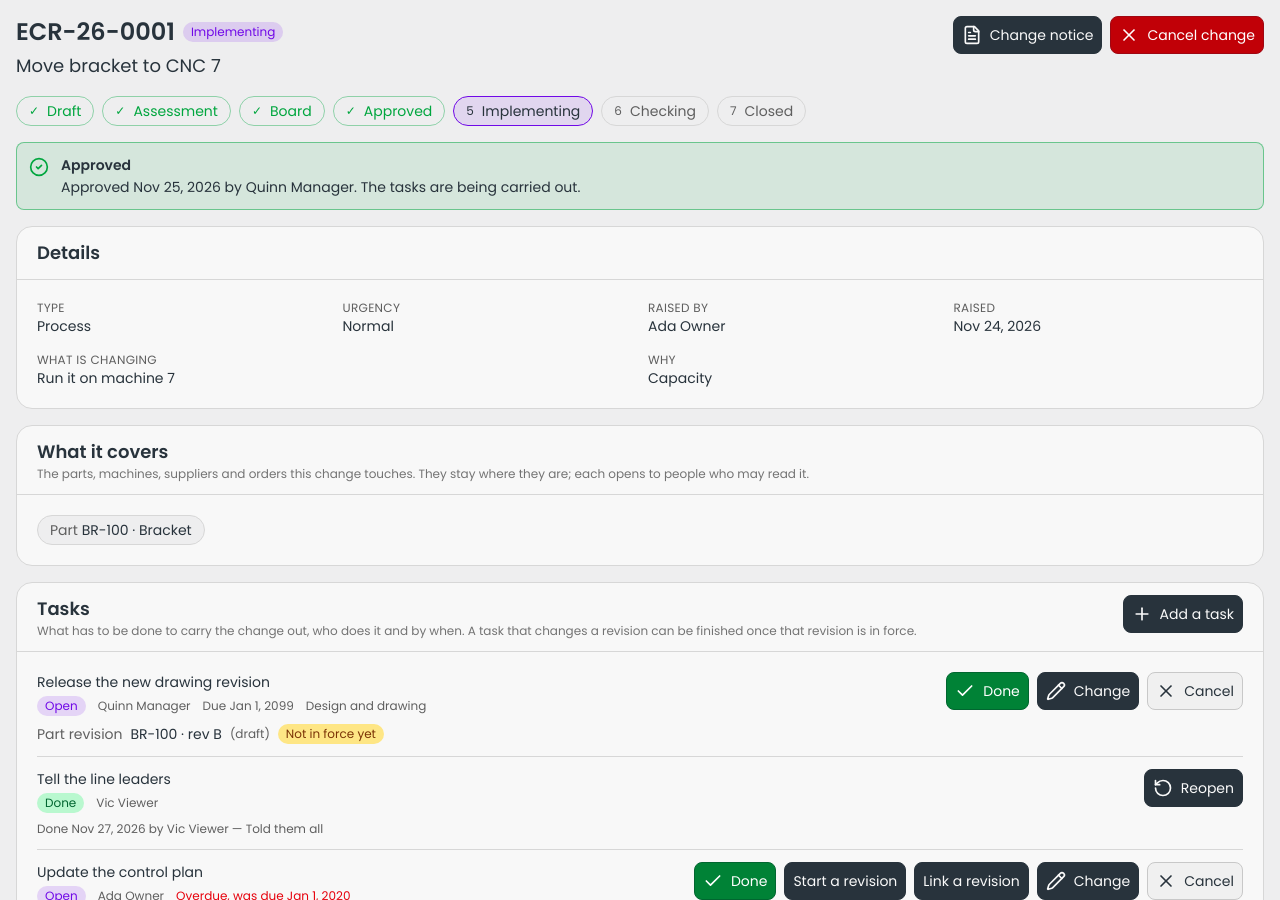
Test: the tasks card › cancels a task only with a reason
The width and height of the screenshot is (1280, 900).
Later steps or results of the test are not shown.
What coordinates should you click on to do the following:
click the button with aria-label "Cancel task"
I would click on:
 (1195, 881)
Its box is [1147, 862, 1243, 899].
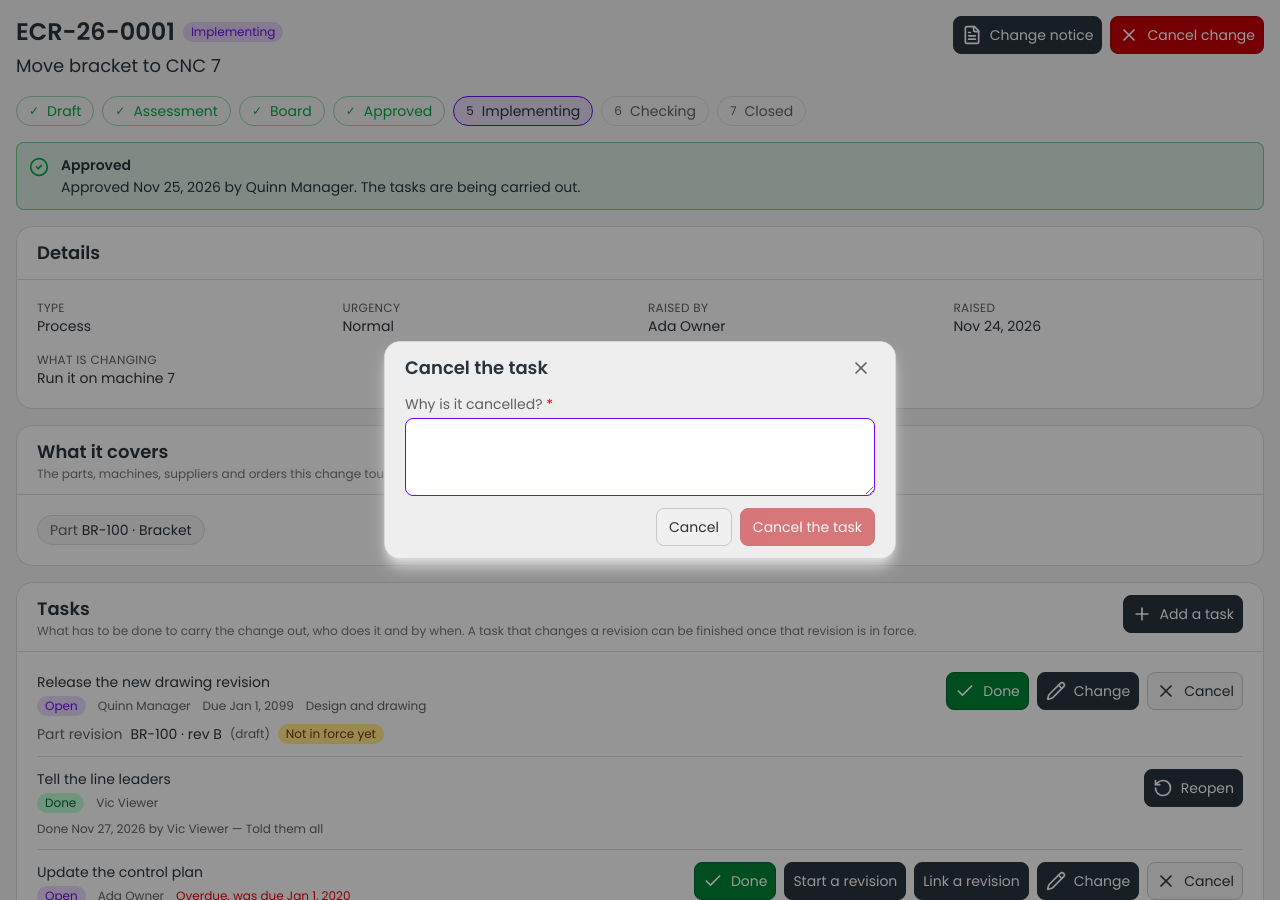
Check: the button "Cancel the task" is disabled, box [740, 508, 875, 546]
